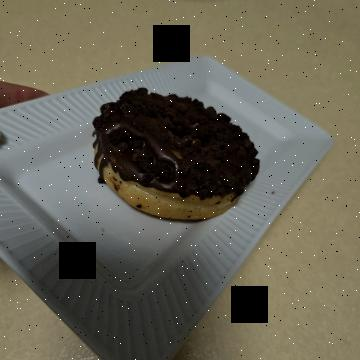doughnut: (71, 90, 242, 280)
